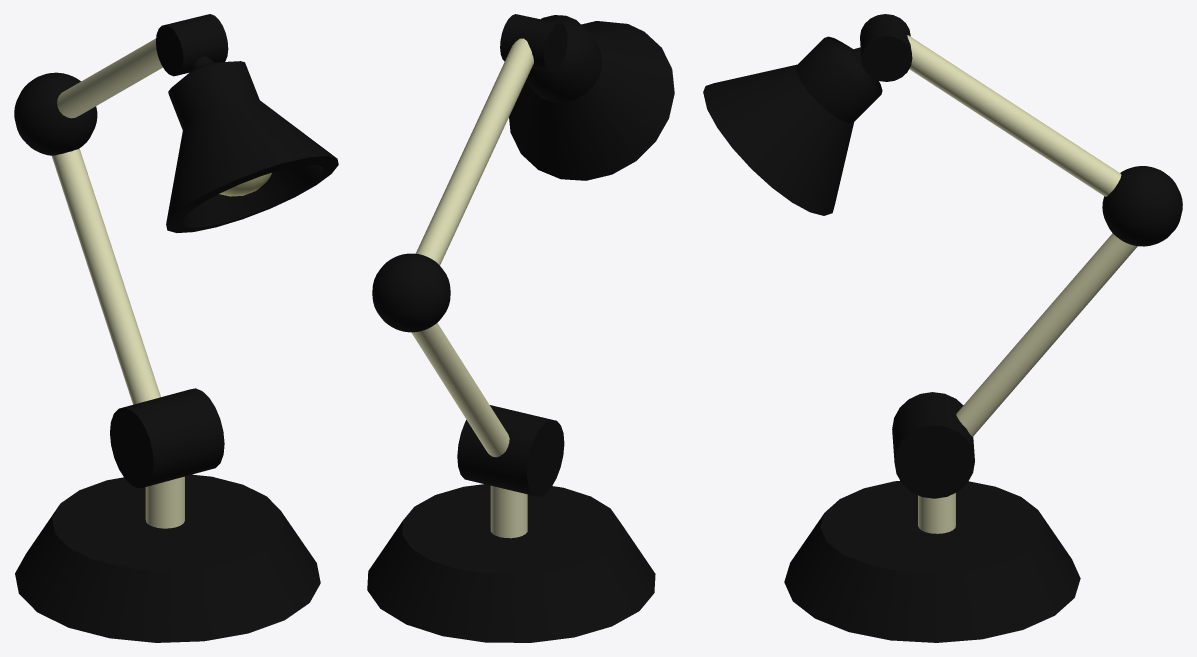
The model's file is LampMesh.obj.
The picture shows the model from 3 angles, left to right: view 1: azimuth 30°, elevation 25°; view 2: azimuth 150°, elevation 25°; view 3: azimuth 270°, elevation 25°; orthographic projection. The views are drawn at different scales.
Visible parts, largest first — view 1: polySurface18; view 2: polySurface18; view 3: polySurface18.
Part boxes in pixels (<box>): polySurface18: <box>14,14,338,642</box>; polySurface18: <box>367,14,674,642</box>; polySurface18: <box>703,14,1182,642</box>.
Bounding box in the file's own units: 5.09 × 10.53 × 8.24.
